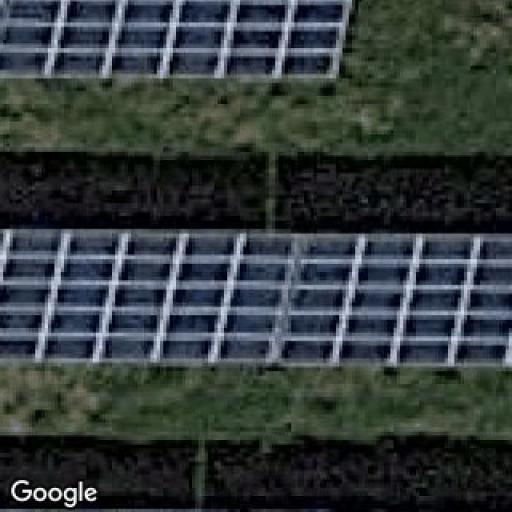solar-panel: (0, 230, 512, 364), (0, 0, 355, 80)
